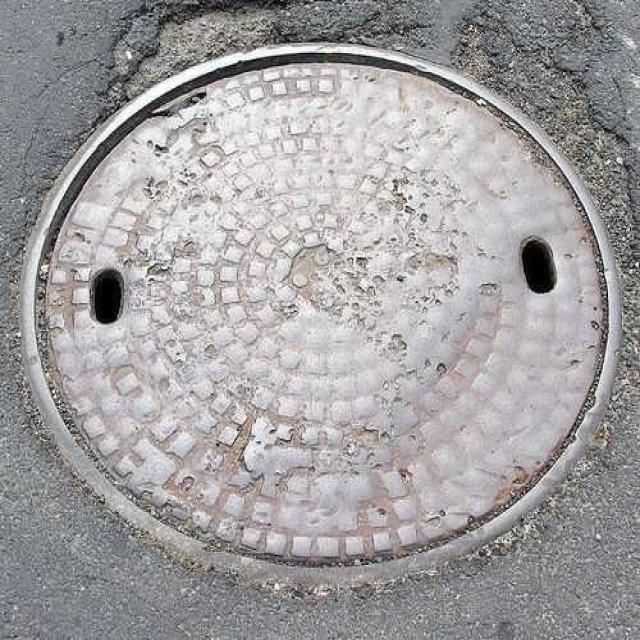manhole: (21, 45, 621, 583)
